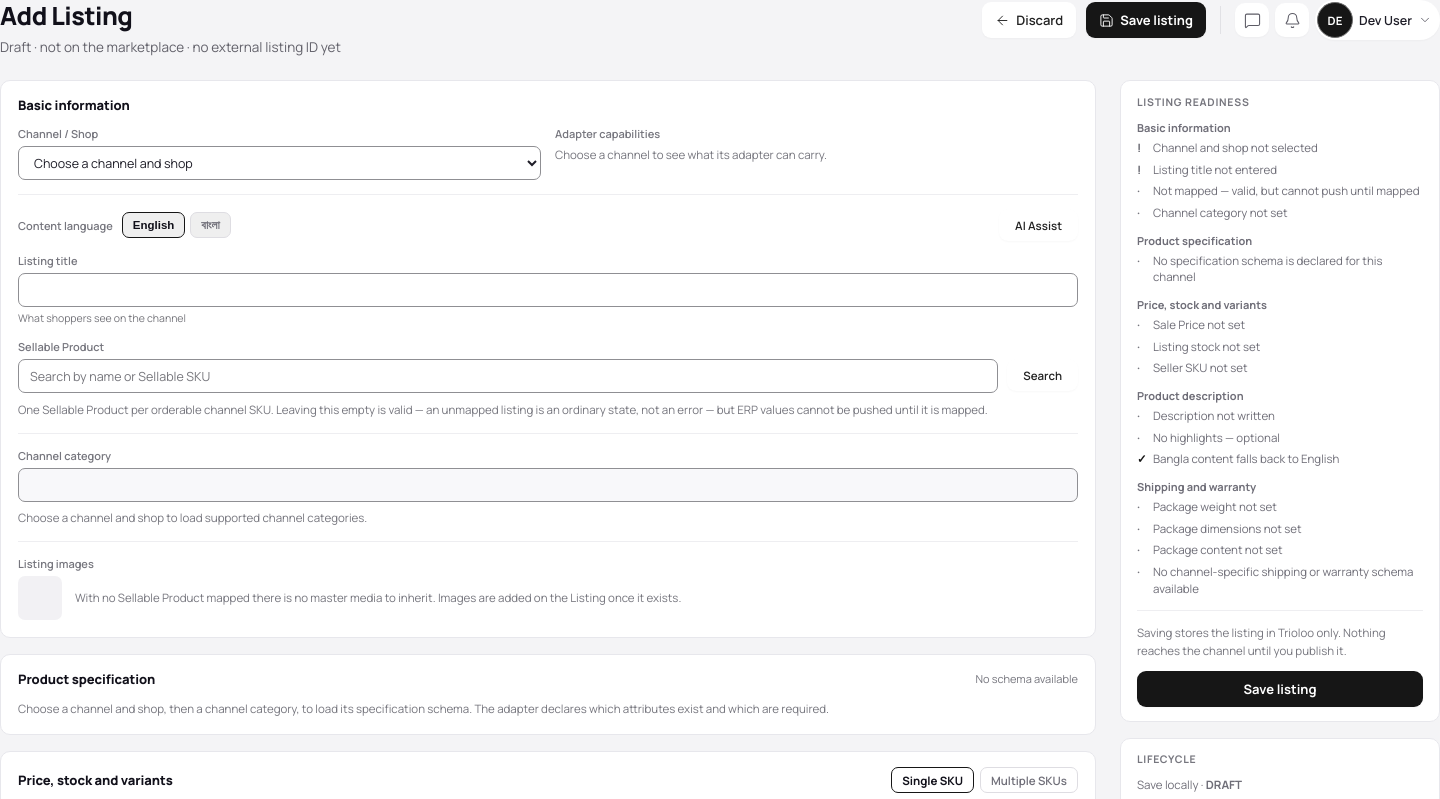
Test: AI Assist — availability › states honestly when no provider is configured, and fabricates nothing
The width and height of the screenshot is (1440, 799).
What coordinates should you click on to do the following:
click the button with test id "ai-assist-open"
I would click on:
 (1039, 225)
Its box is x1=999 y1=209 x2=1078 y2=241.
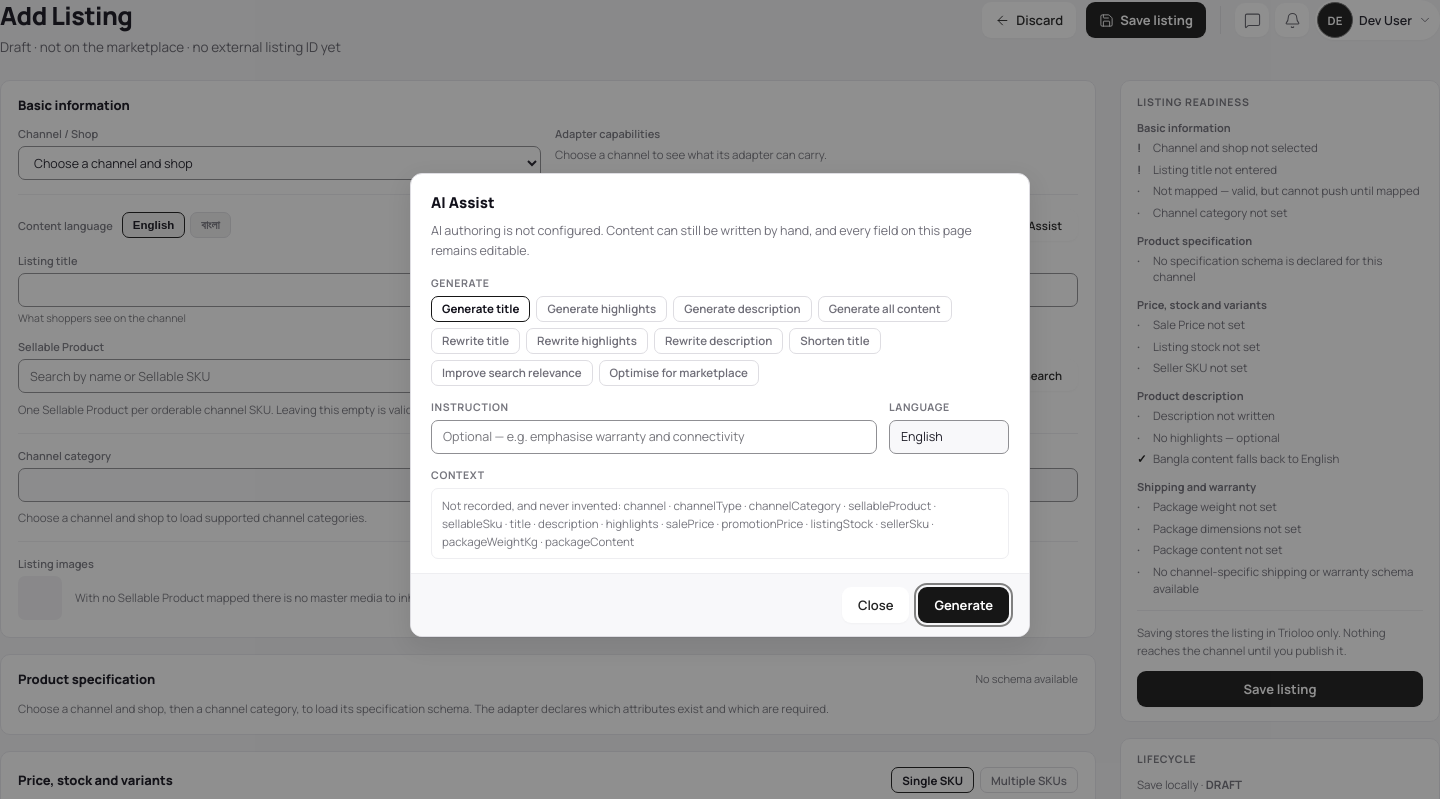
Check: the dialog with test id "ai-assist-dialog" is shown, box x1=410 y1=173 x2=1030 y2=637
Check: the dialog with test id "ai-assist-dialog" shows "AI authoring is not configured", box x1=431 y1=222 x2=972 y2=259
Check: the dialog with test id "ai-assist-dialog" shows "written by hand", box x1=431 y1=222 x2=972 y2=259
